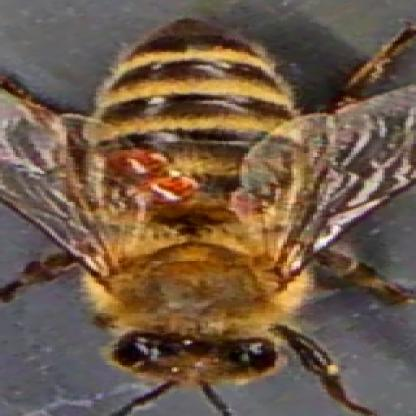bee: (91, 18, 316, 388)
vaoora: (142, 176, 203, 202), (112, 147, 162, 169)
